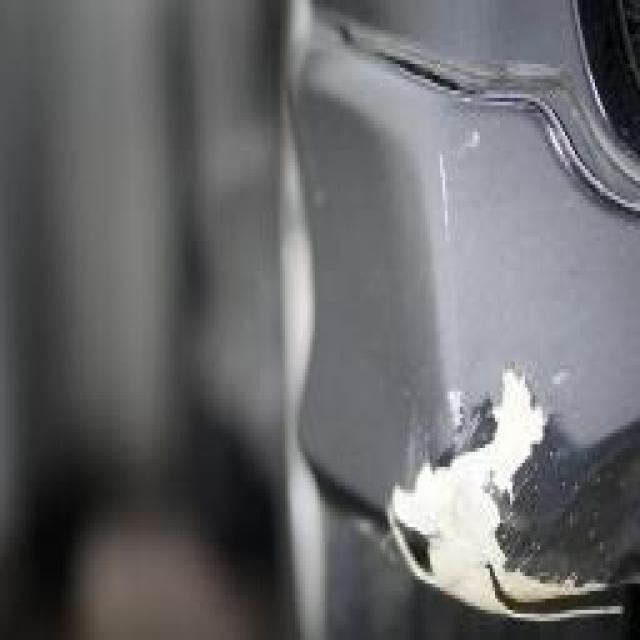Bumper: (296, 38, 640, 640)
